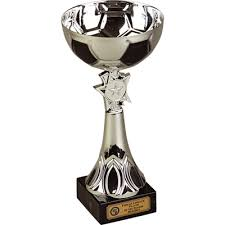trophy: (60, 1, 166, 225)
